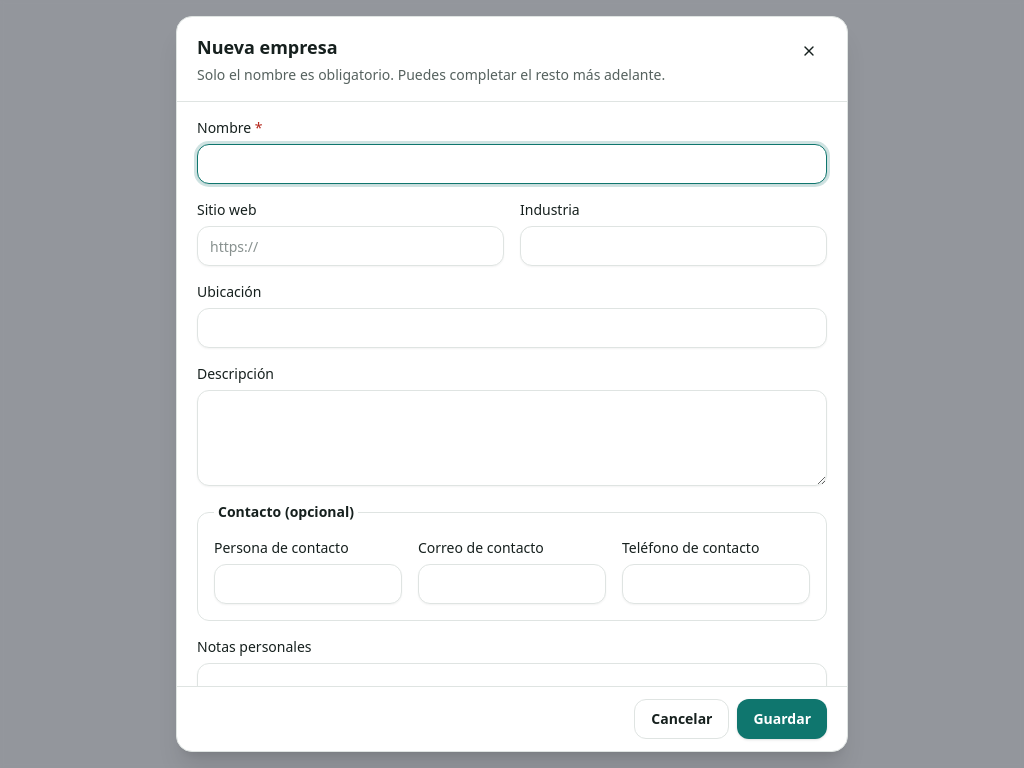
Scenario: company form › validates the name, URL and email on the client
The image size is (1024, 768).
Type "acme.com" into the field labelled "Sitio web" at (350, 246), box [197, 226, 504, 266]
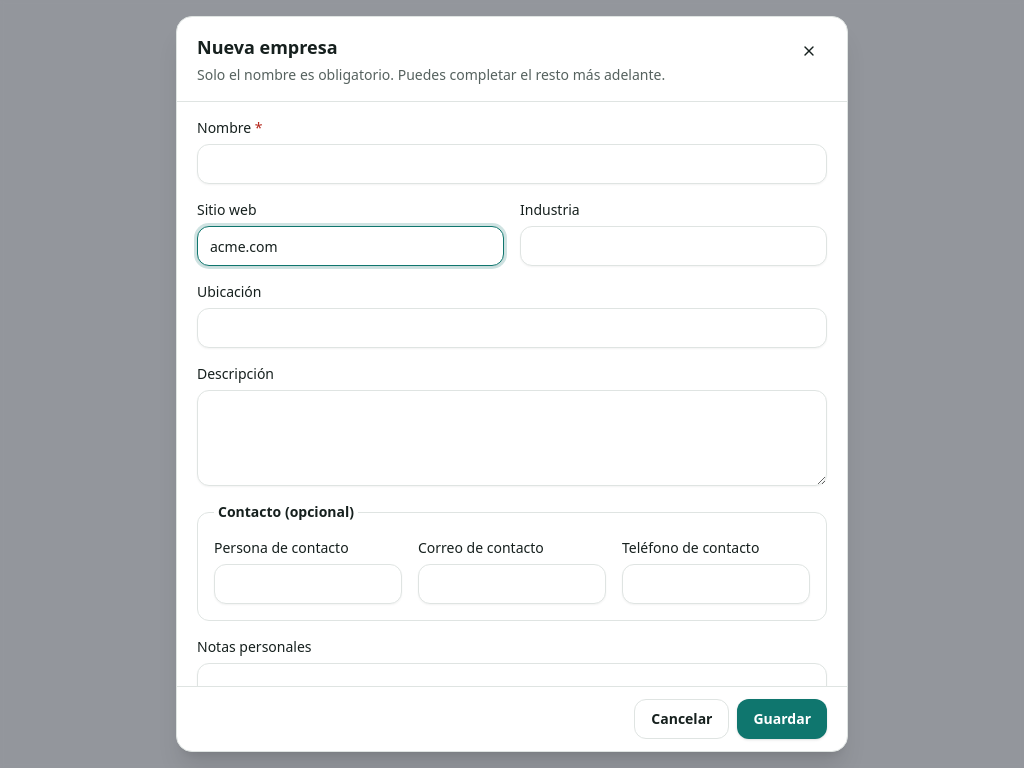
Type "no-es-un-correo" into the field labelled "Correo de contacto" at (512, 584), box [418, 564, 606, 604]
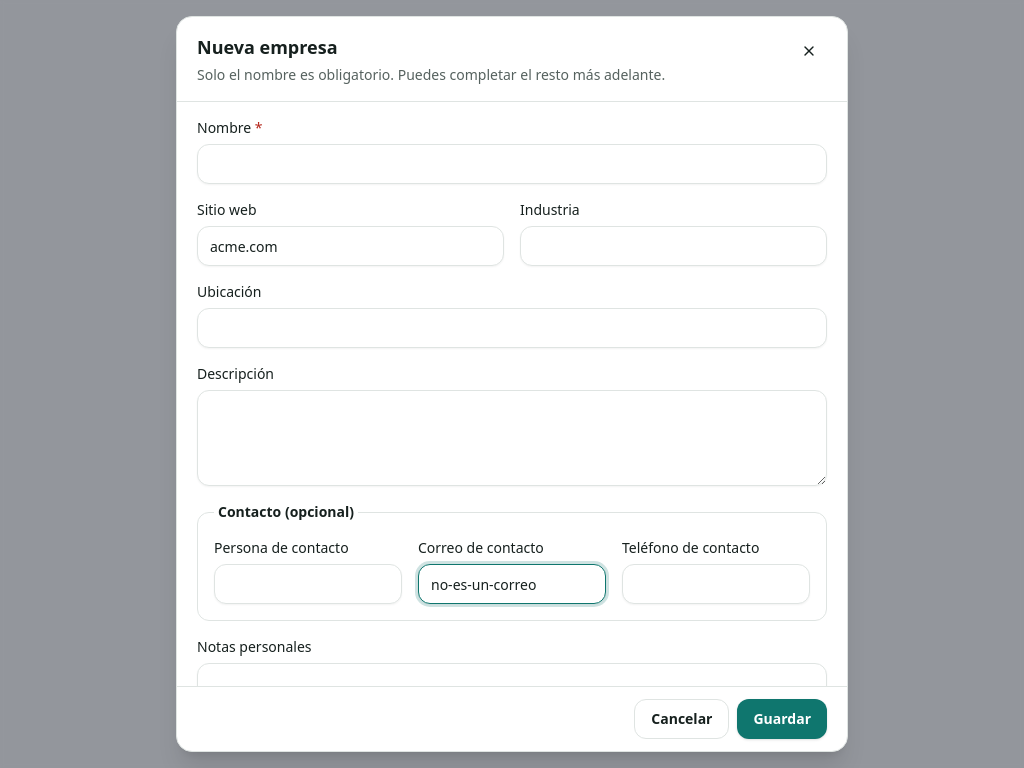
Click the button "Guardar" at (782, 719), box [738, 699, 827, 739]
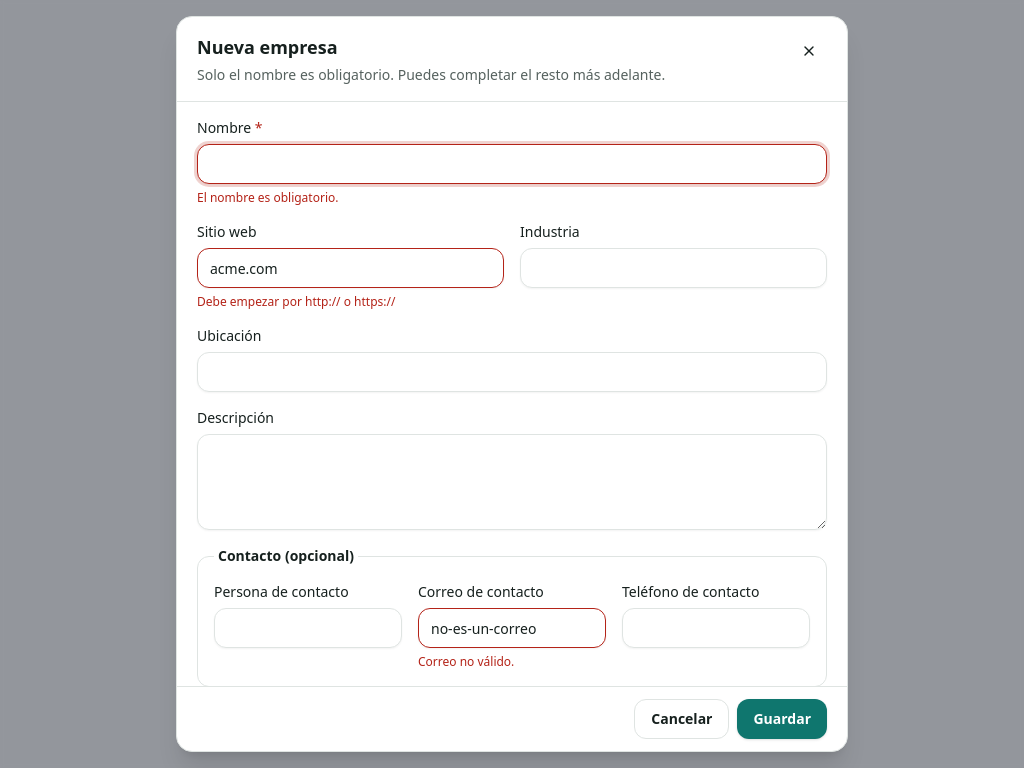
Result: the text "El nombre es obligatorio." is shown at [197, 189, 338, 206]
Result: the text "Debe empezar por http:// o https://" is shown at [197, 293, 395, 310]
Result: the text "Correo no válido." is shown at [418, 653, 514, 670]
